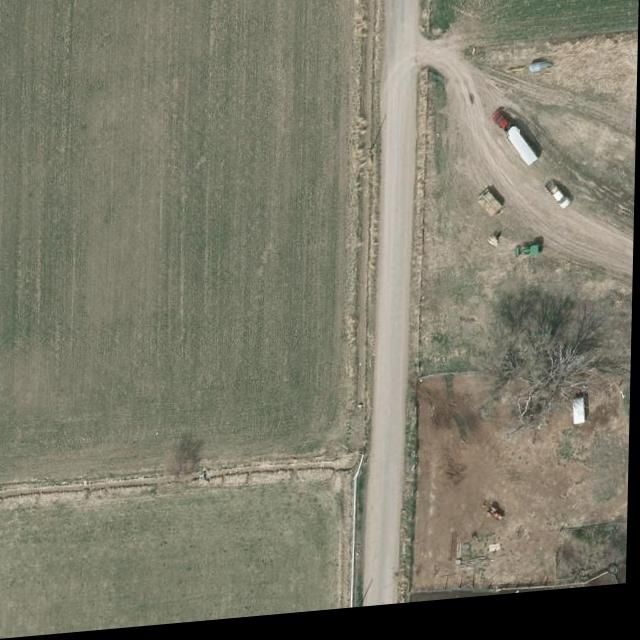vehicle: (538, 189, 578, 223), (492, 115, 521, 148)
